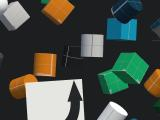Left: (26, 79, 84, 120)
